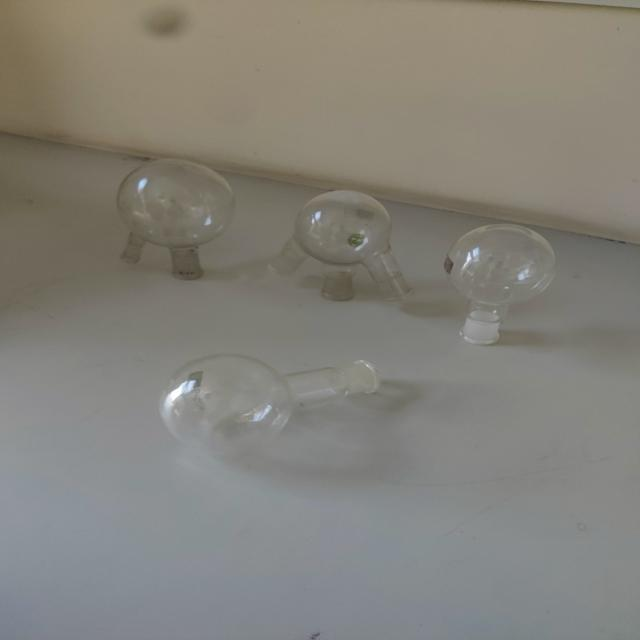Round_Bottom_Flask_Borosilicate_Glass_1_Neck: (137, 331, 406, 467), (425, 207, 574, 361)
Round_Bottom_Flask_Borosilicate_Glass_2_Neck: (78, 146, 262, 298)
Round_Bottom_Flask_Borosilicate_Glass_3_Neck: (256, 160, 422, 317)
